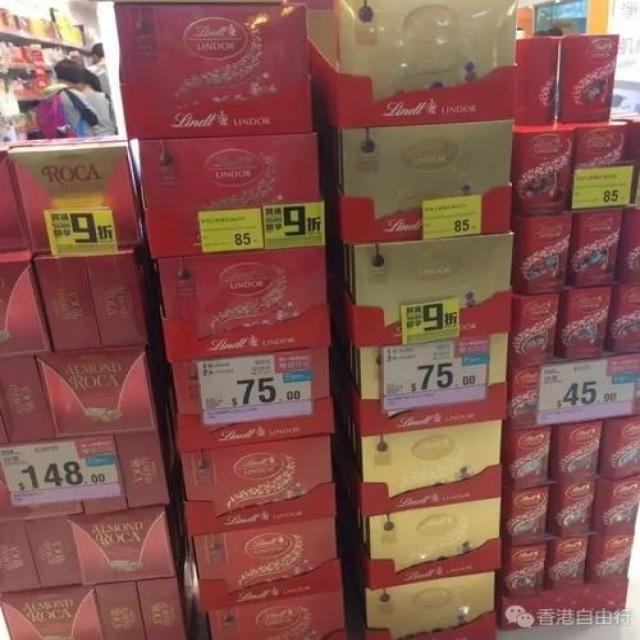box: (114, 3, 312, 141), (138, 131, 324, 259), (324, 120, 515, 243), (330, 232, 511, 349), (155, 247, 332, 361), (334, 401, 503, 516), (330, 327, 508, 434), (170, 346, 334, 454), (335, 484, 502, 590), (179, 435, 337, 540), (338, 540, 494, 640), (10, 143, 145, 256), (192, 520, 340, 614), (38, 338, 168, 438), (72, 505, 183, 584), (83, 247, 159, 348), (0, 439, 83, 521), (209, 592, 348, 640), (35, 256, 102, 351), (512, 120, 577, 214), (0, 585, 105, 640), (554, 33, 617, 120), (118, 411, 173, 509), (509, 211, 573, 295), (0, 260, 54, 359), (0, 358, 56, 442), (568, 206, 626, 286), (22, 514, 84, 587), (72, 435, 128, 514), (509, 290, 566, 367), (138, 562, 192, 640), (516, 37, 562, 126), (558, 286, 613, 360), (0, 146, 32, 265), (548, 474, 600, 539), (549, 421, 603, 482), (500, 424, 550, 489), (499, 482, 552, 541), (497, 534, 545, 596), (591, 474, 640, 534), (1, 520, 41, 593), (97, 582, 146, 640), (598, 414, 640, 478), (584, 532, 635, 583), (577, 120, 630, 166), (545, 532, 590, 586), (507, 364, 543, 428), (607, 284, 640, 352), (614, 205, 640, 286), (47, 134, 128, 146), (0, 138, 50, 146), (0, 414, 9, 447)
